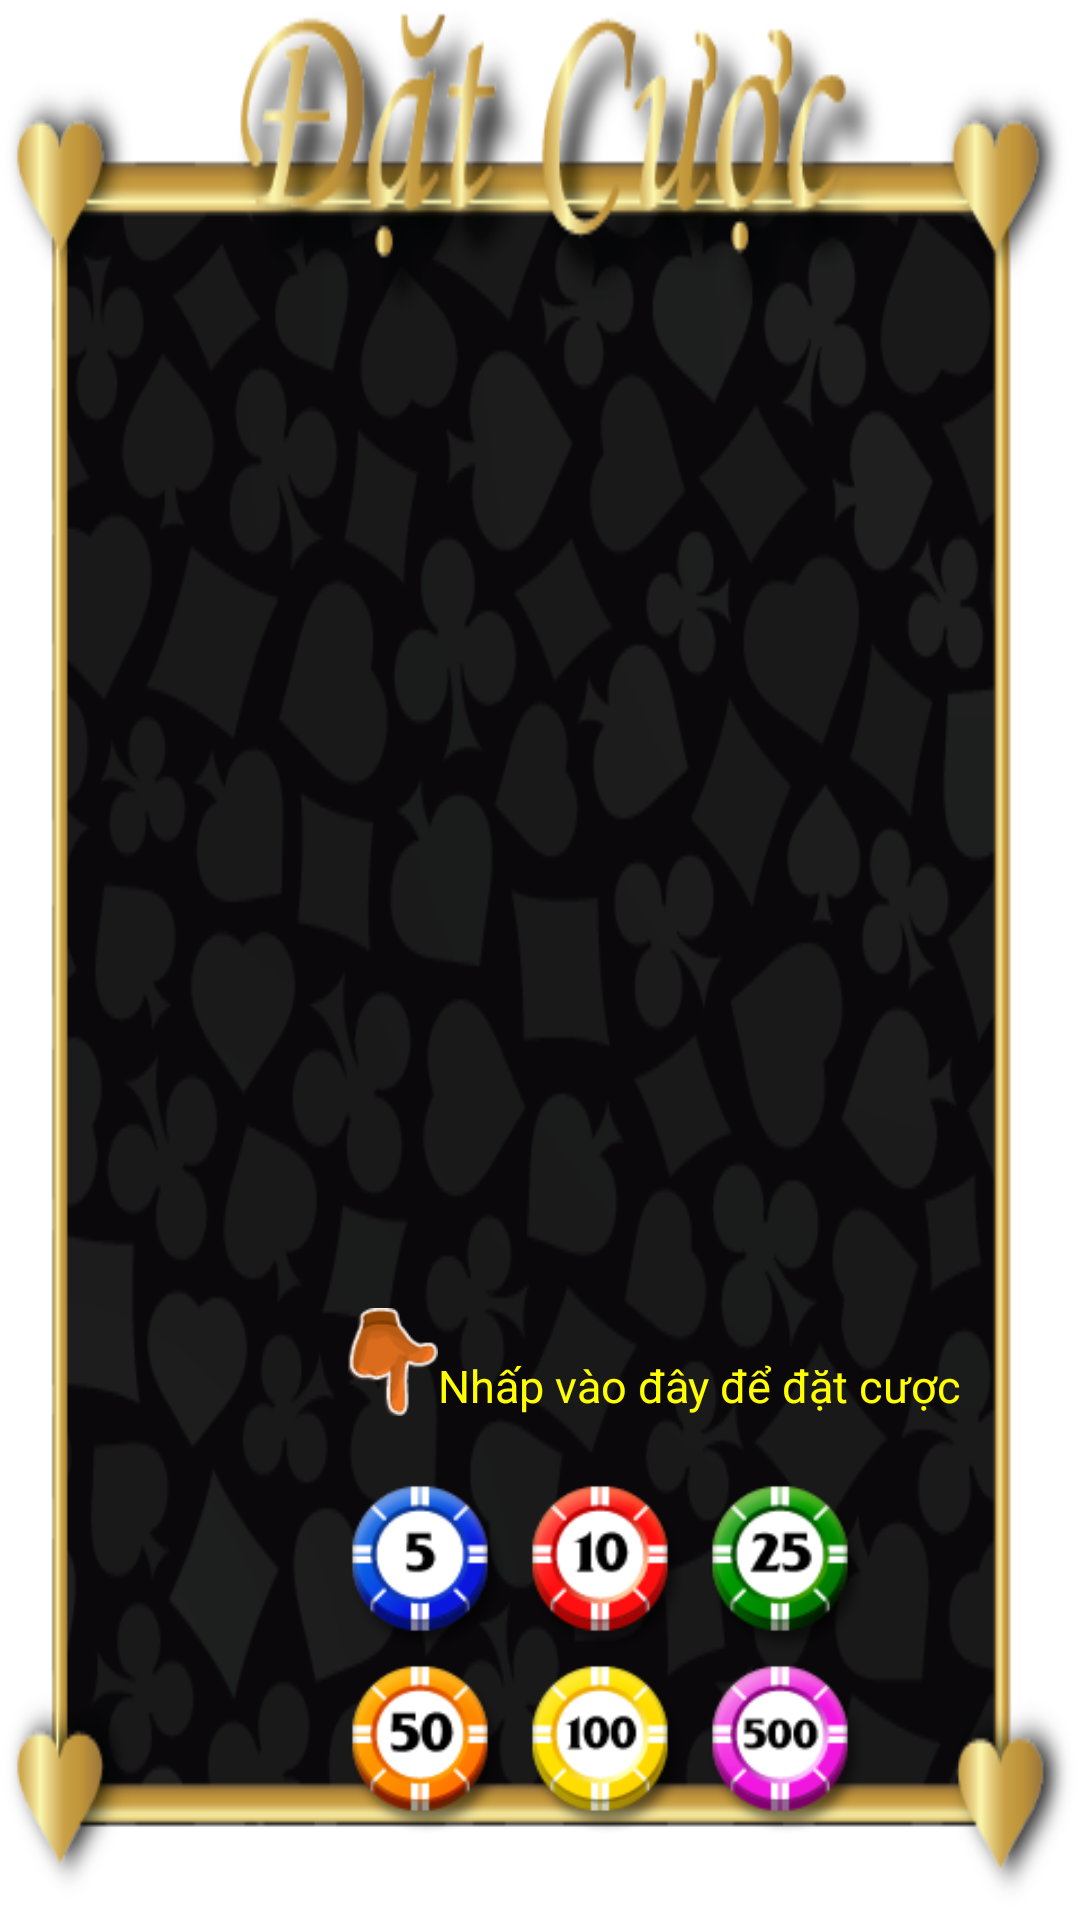

Icons on this 1080px×1920px Android screen, each with the point to tap as (x,y):
chip: (420,1558), (600,1558), (780,1558), (438,1752), (618,1752), (798,1752)
hand: (393,1362)
